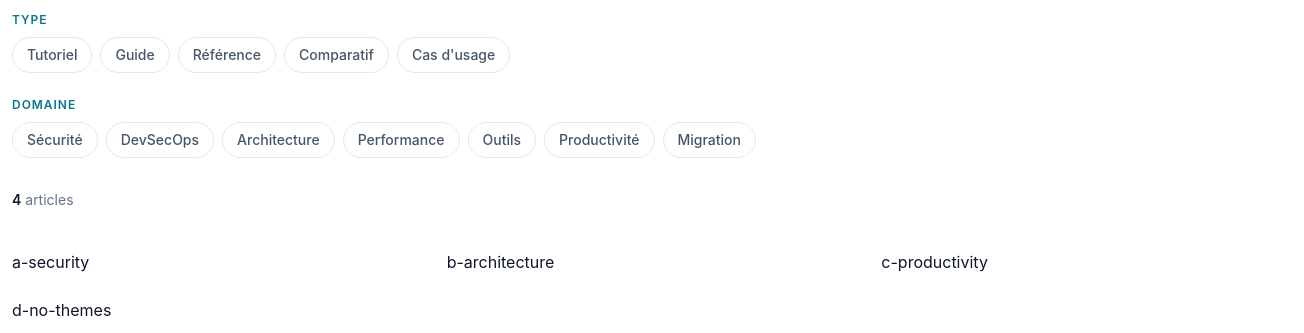
Scenario: ArticleThemeFilter › applies OR logic across multiple active chips
Click the button "Sécurité" at (55, 140), box x1=12 y1=122 x2=98 y2=158
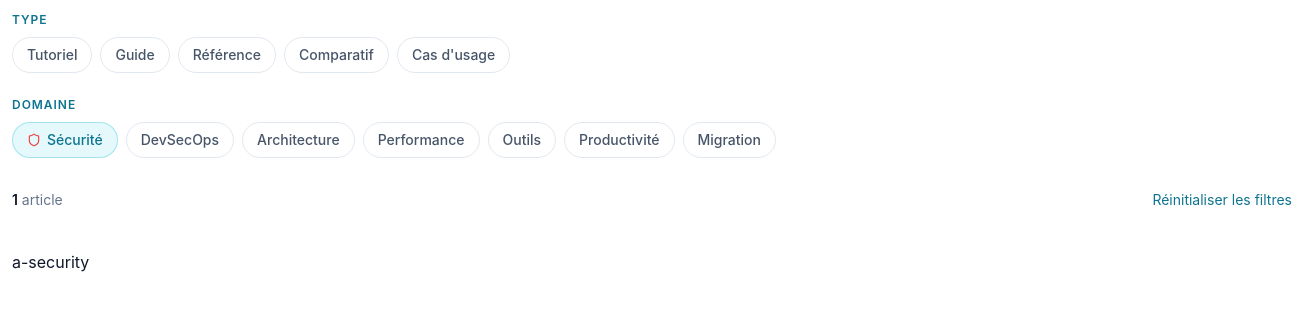
Click the button "Architecture" at (298, 140), box x1=242 y1=122 x2=355 y2=158
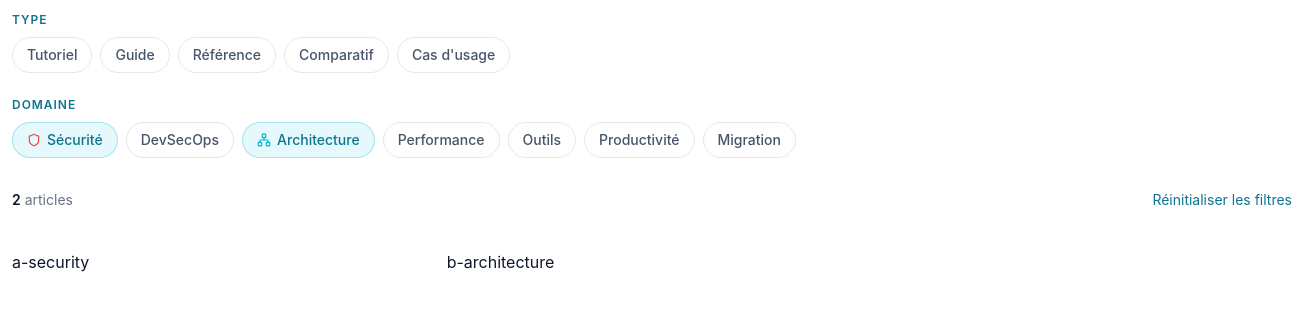
Expected: the text "a-security" is shown, x1=12 y1=252 x2=89 y2=272
Expected: the text "b-architecture" is shown, x1=447 y1=252 x2=554 y2=272
